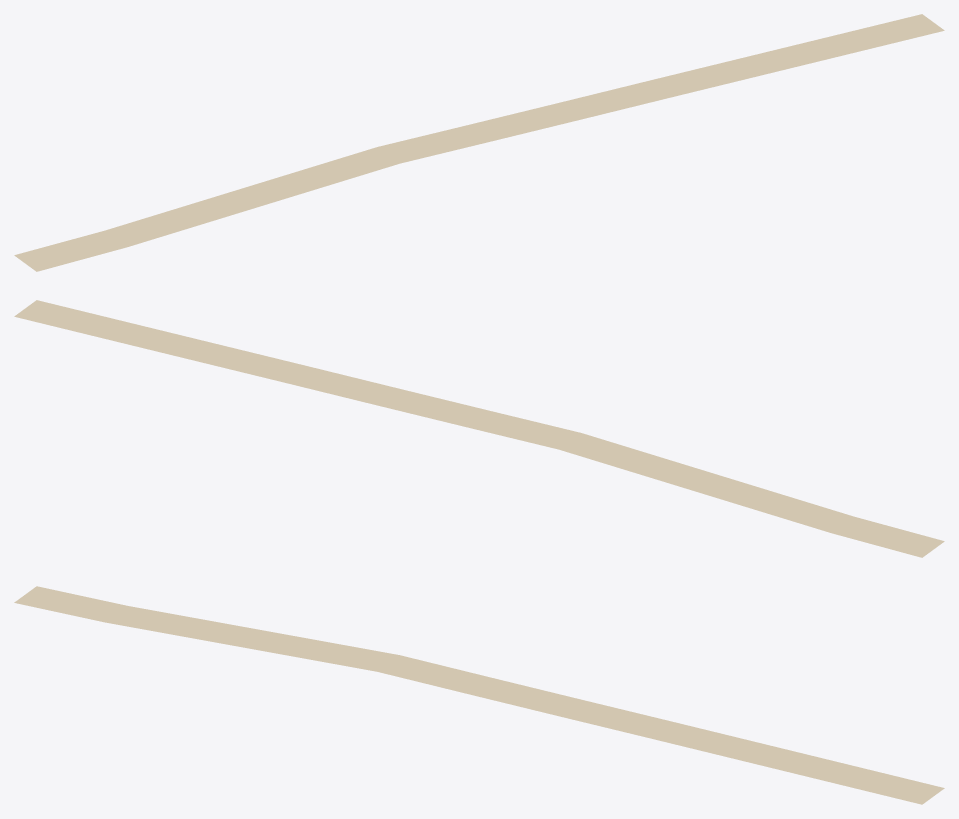
Rendered from eb_path_1780.glb.
3 views of the same model, one above another, from view 1: azimuth 30°, elevation 25°; view 2: azimuth 150°, elevation 25°; view 3: azimuth 330°, elevation 25° (orthographic).
Parts seen in each view (by area): view 1: eb_path_1780_lod0; view 2: eb_path_1780_lod0; view 3: eb_path_1780_lod0.
Boxes of the visible parts, x1,y1,x2,y2 form: eb_path_1780_lod0: (14,14,944,271); eb_path_1780_lod0: (14,300,944,557); eb_path_1780_lod0: (14,586,944,804).
Size of what is drawn, in the model's own units: 60 by 1.24 by 2.6.
